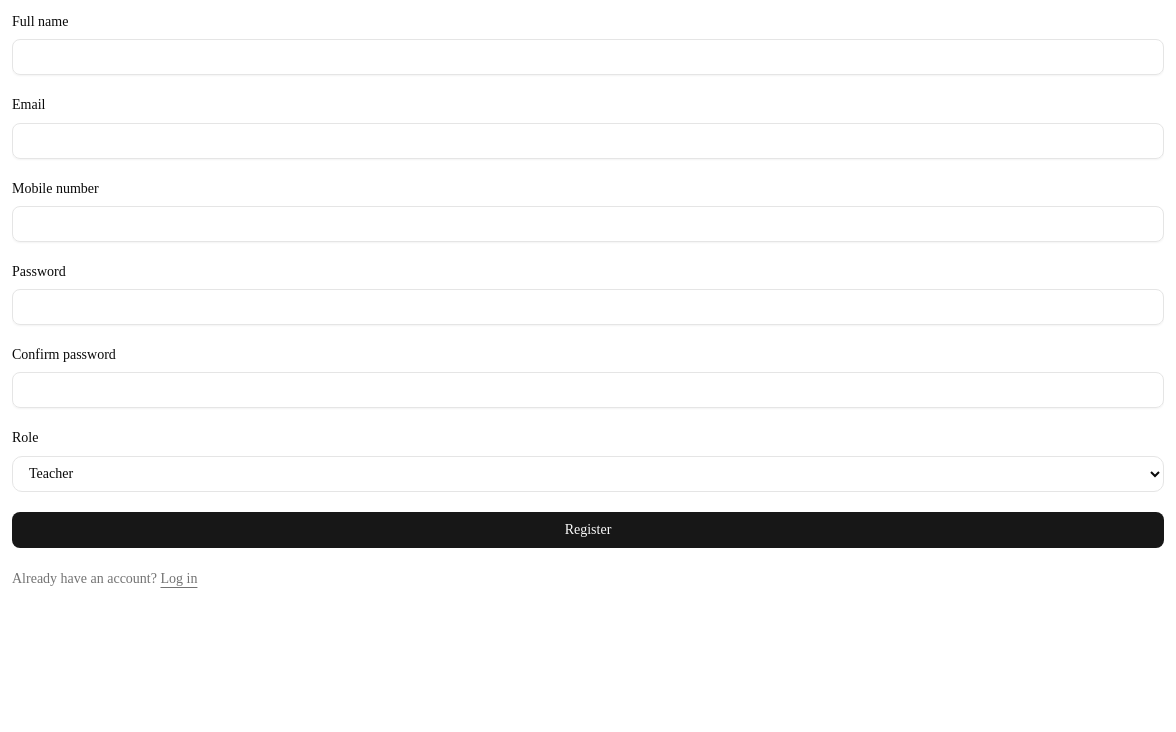
it: AC-003: Register validation › shows validation error when passwords do not match
In the password field labelled "Password": (588, 307) [12, 289, 1164, 325], type "SecurePass123!"
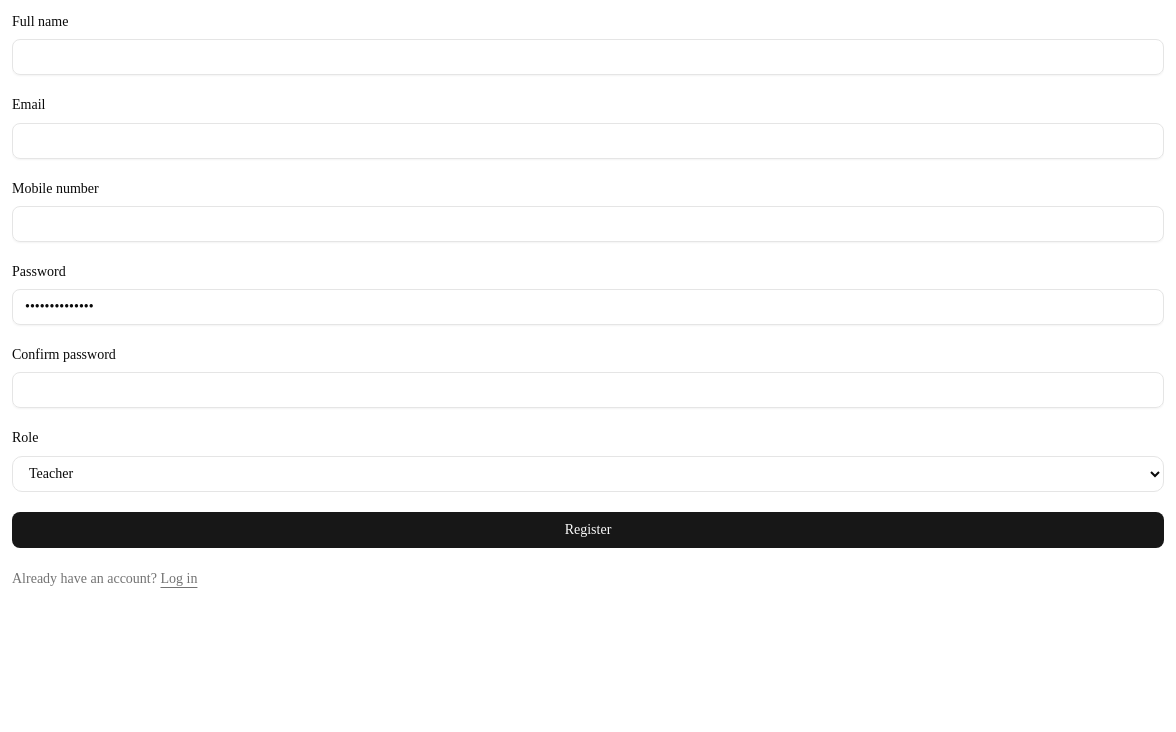
In the password field labelled "Confirm password": (588, 390) [12, 372, 1164, 408], type "DifferentPass123!"
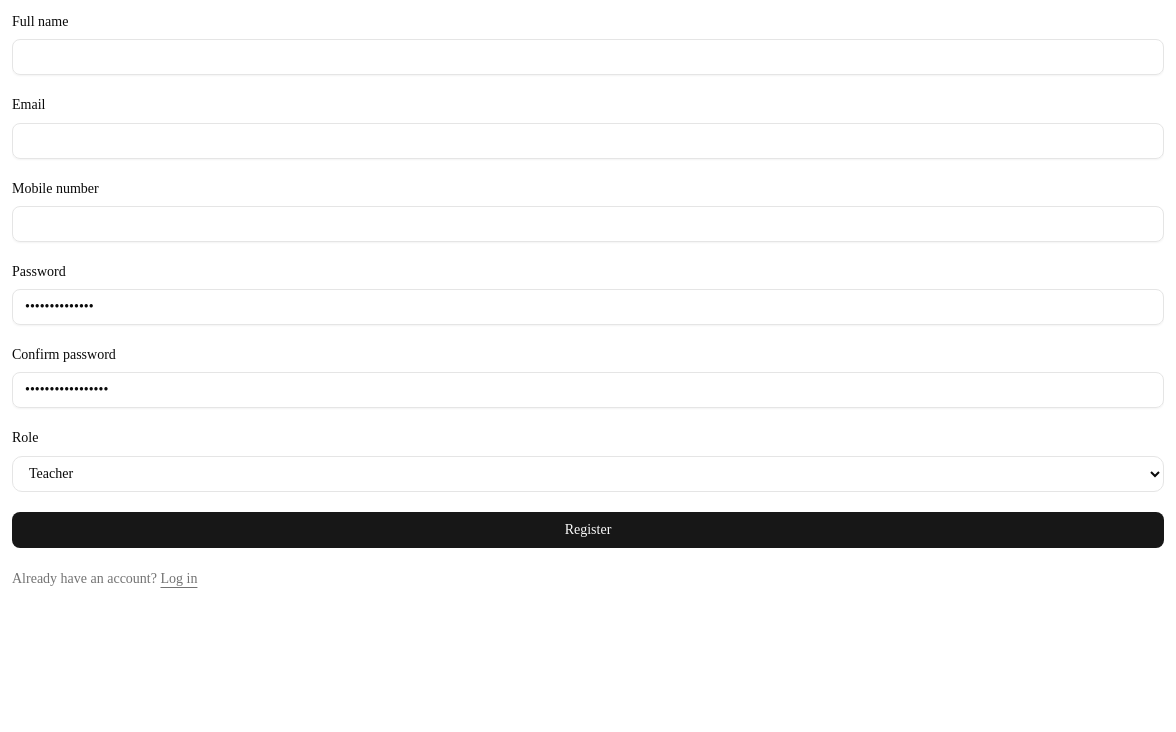
Submit the form "Register"
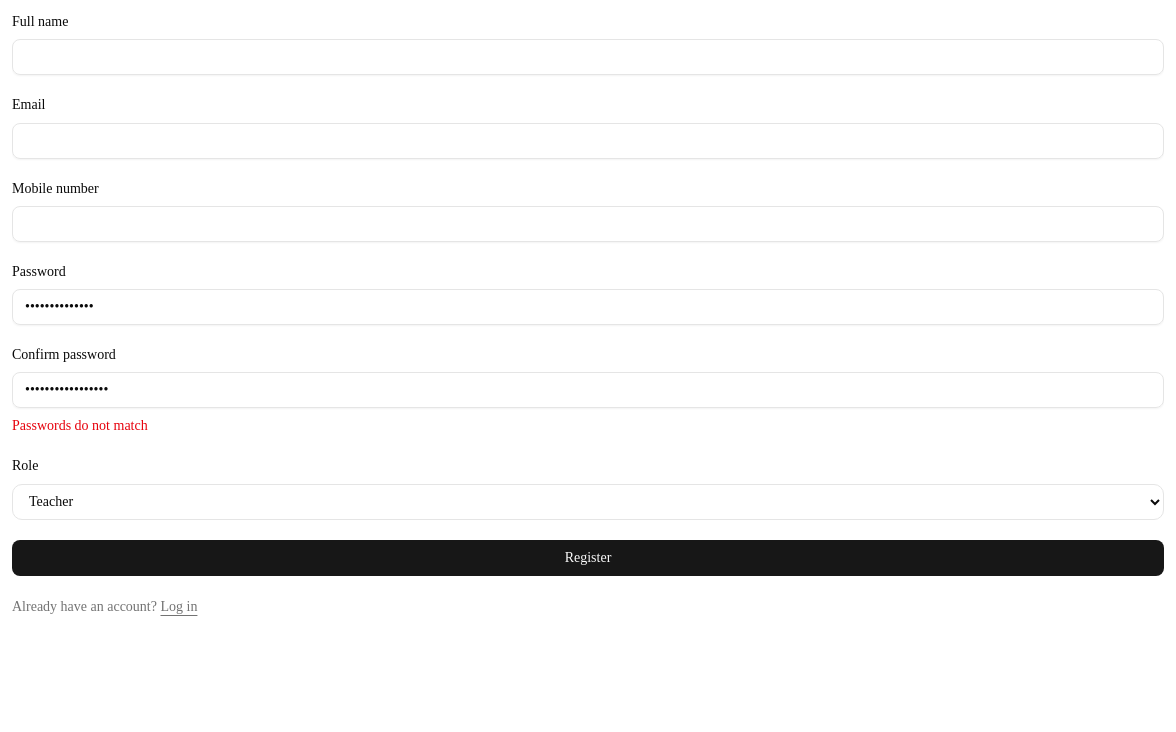
Result: the text "Passwords do not match" is shown at [12, 418, 148, 433]
